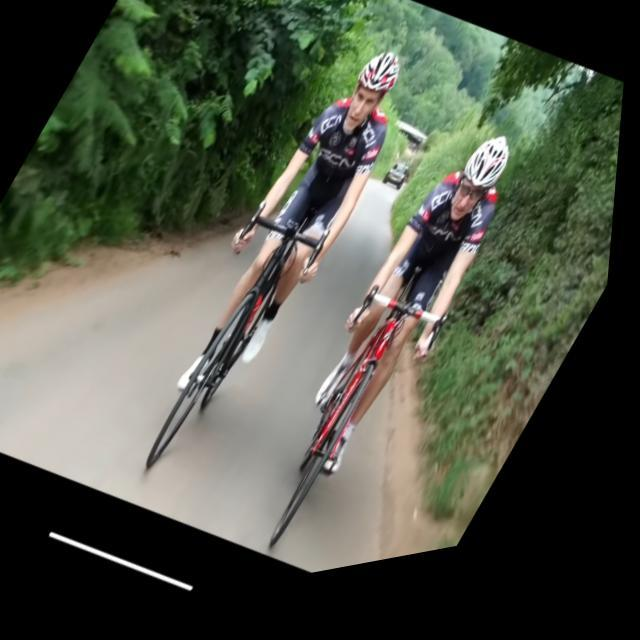Helmet: (333, 43, 410, 133), (446, 126, 515, 224)
